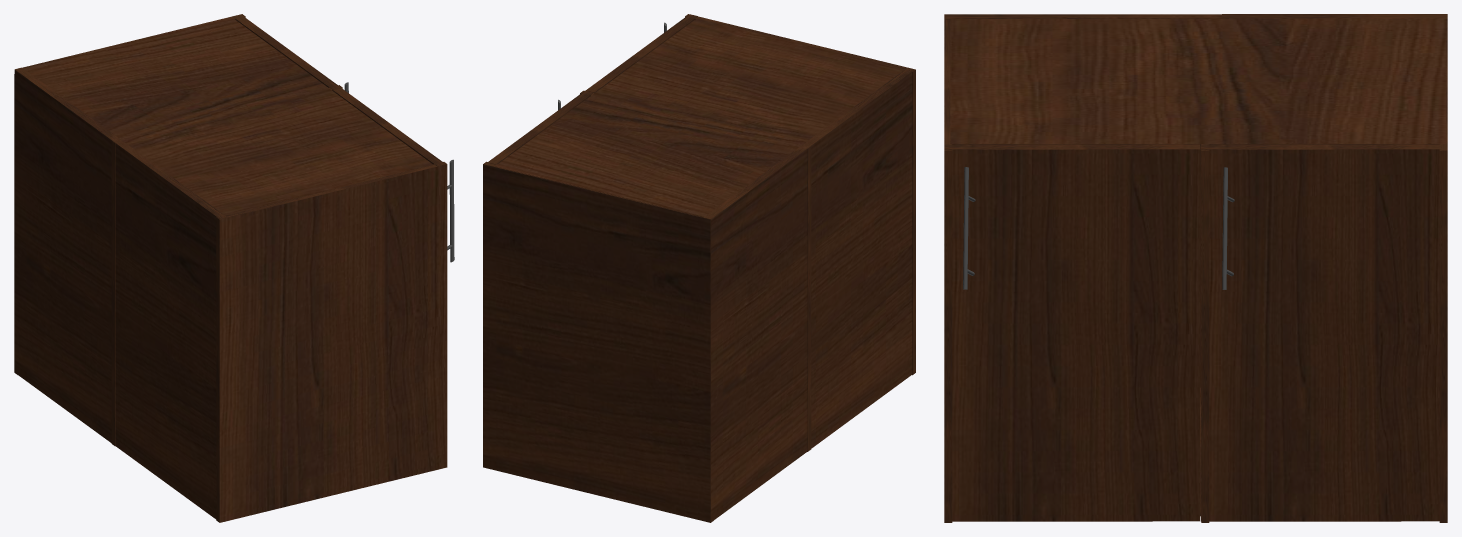
The model's file is armarioCocina1.fbx.
3 views of the same model, side by side, from view 1: azimuth 30°, elevation 25°; view 2: azimuth 150°, elevation 25°; view 3: azimuth 270°, elevation 25° (orthographic). The views are drawn at different scales.
Visible parts, largest first — view 1: armarioCocina4; view 2: armarioCocina4; view 3: armarioCocina4.
Boxes of the visible parts, x1=… form: armarioCocina4: x1=14, y1=14, x2=454, y2=522; armarioCocina4: x1=483, y1=14, x2=915, y2=522; armarioCocina4: x1=944, y1=14, x2=1447, y2=522.
Size of the model in its own units: 1.21 by 1.44 by 1.76.
2 materials, 1 textured.
